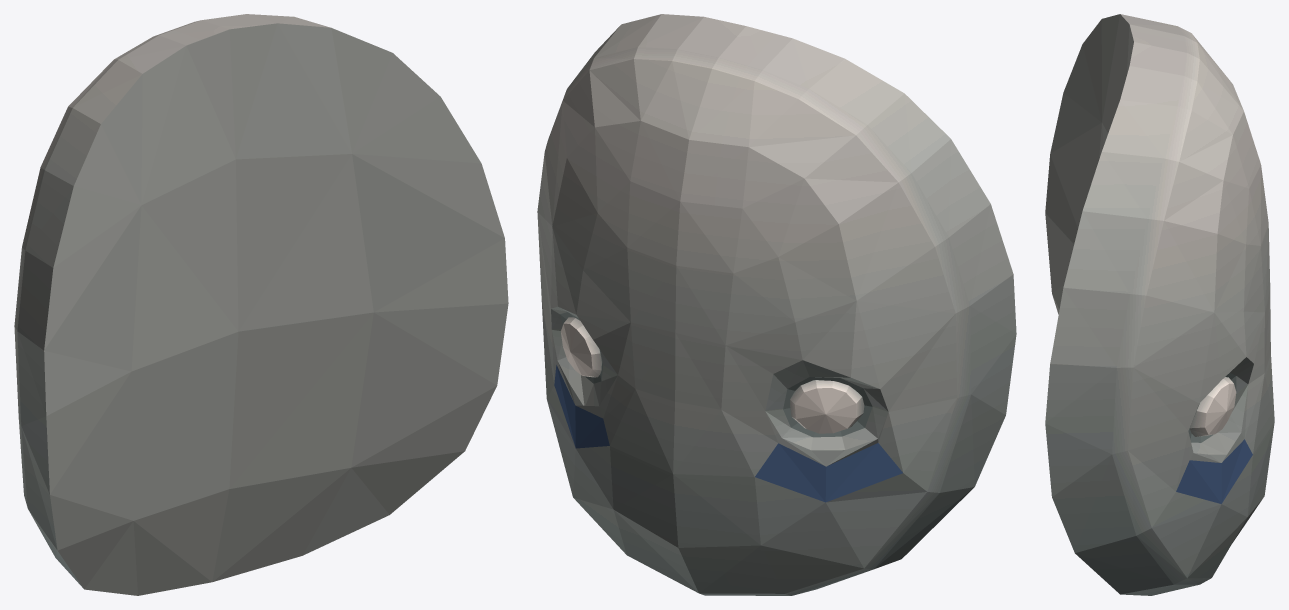
The model's file is CharSkyKid_Mask_AP03B.glb.
The picture shows the model from 3 angles, left to right: view 1: azimuth 30°, elevation 25°; view 2: azimuth 150°, elevation 25°; view 3: azimuth 270°, elevation 25°; orthographic projection. The views are drawn at different scales.
Parts seen in each view (by area): view 1: CharSkyKid_Mask_AP03B; view 2: CharSkyKid_Mask_AP03B; view 3: CharSkyKid_Mask_AP03B.
Part boxes in pixels (left/top/right/bottom): CharSkyKid_Mask_AP03B: left=14, top=14, right=508, bottom=595; CharSkyKid_Mask_AP03B: left=537, top=14, right=1016, bottom=595; CharSkyKid_Mask_AP03B: left=1045, top=14, right=1274, bottom=595.
Size of the model in its own units: 2.11 by 2.46 by 0.97.
Materials: 1 (1 with a texture image).
